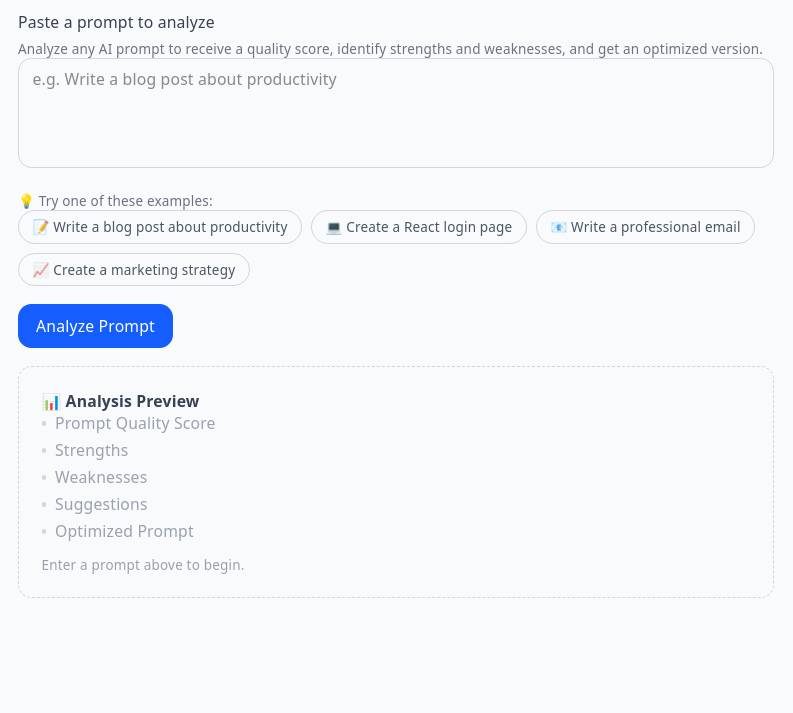
Test: PromptAnalyzerPanel › runs analysis and renders score, strengths, weaknesses, and suggestions
Type "Write a blog post about productivity" into the text box with placeholder "e.g. Write a blog post about productivity".
click(396, 113); type("Write a blog post about productivity")  # box x1=18 y1=58 x2=774 y2=168
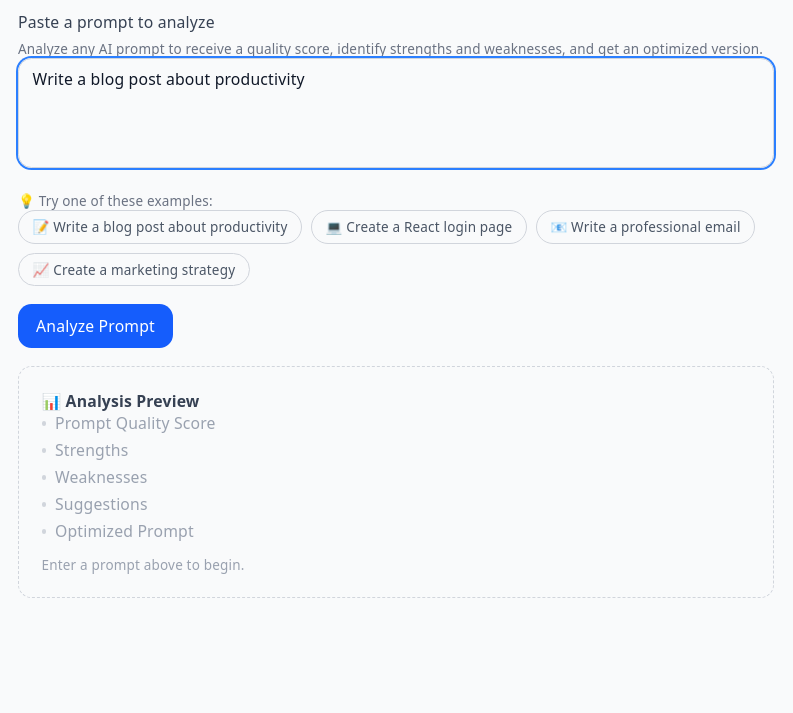
Click the button "Analyze Prompt".
click(96, 326)  # box x1=18 y1=304 x2=173 y2=348
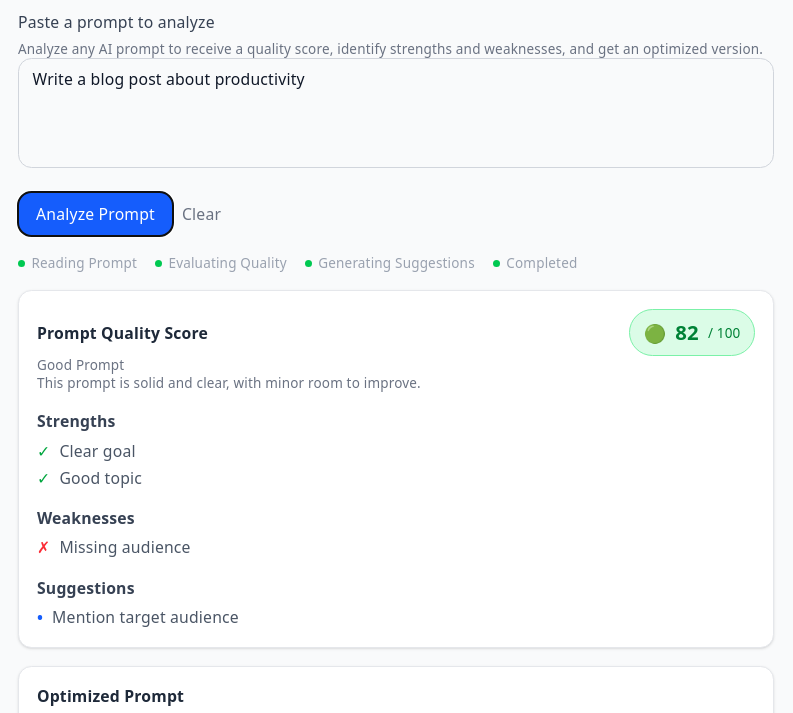
Result: the text "82" is shown at x1=675 y1=317 x2=699 y2=349
Result: the list item "Clear goal" is shown at x1=59 y1=440 x2=136 y2=462
Result: the list item "Missing audience" is shown at x1=59 y1=536 x2=191 y2=558
